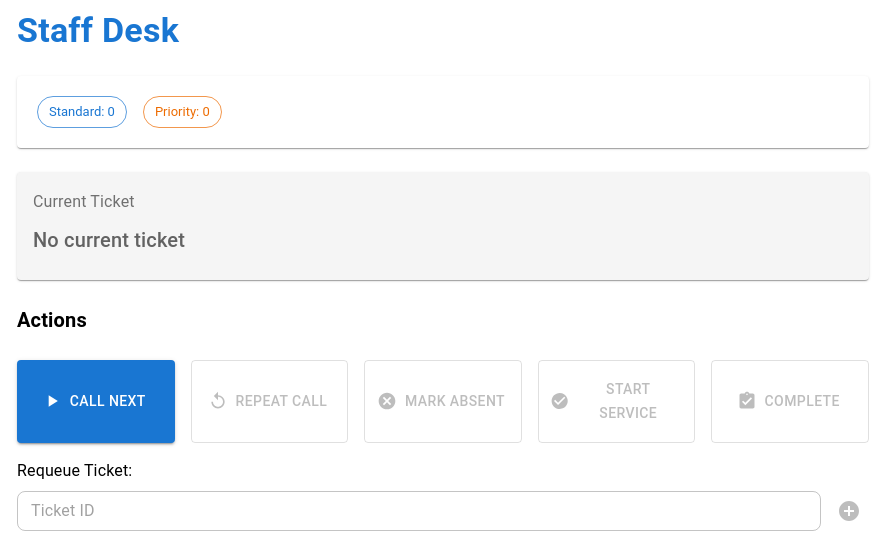
Test: Desk › F1.2.19 - Desk - Requeue Input and Button
This screenshot has width=887, height=548.
Type "PRI-001" into the field with placeholder "Ticket ID" at [419, 511], box [17,491,821,531]
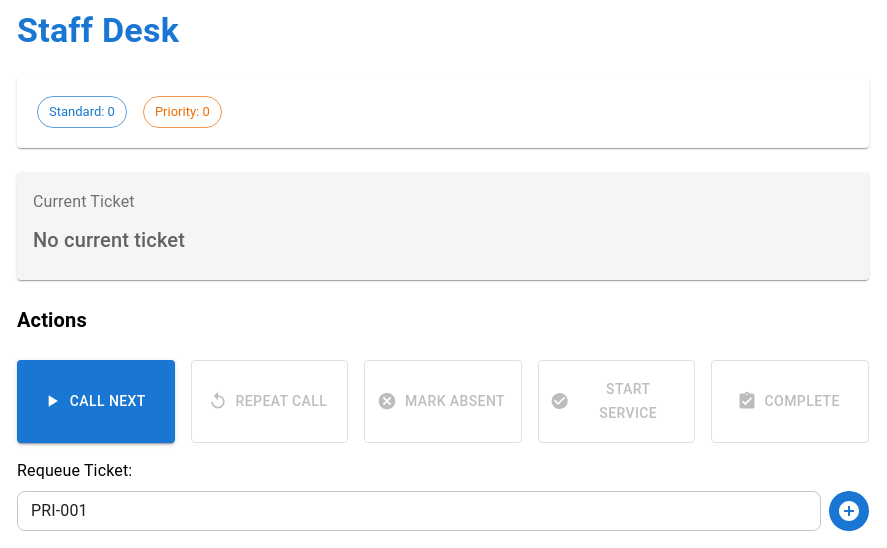
Click the button named "requeue ticket" at [849, 511], box [829,491,869,531]
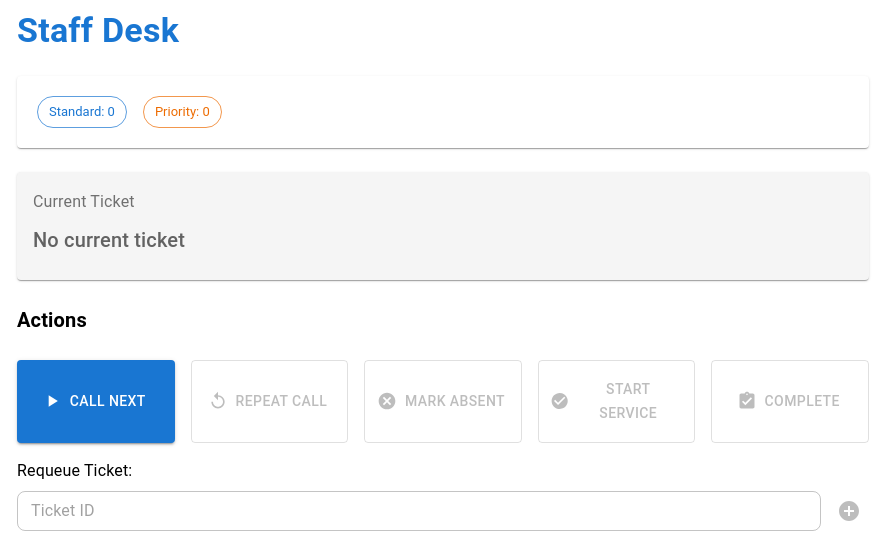
expect the field with placeholder "Ticket ID" is empty: met, box [17,491,821,531]
expect the button named "requeue ticket" is disabled: met, box [829,491,869,531]
